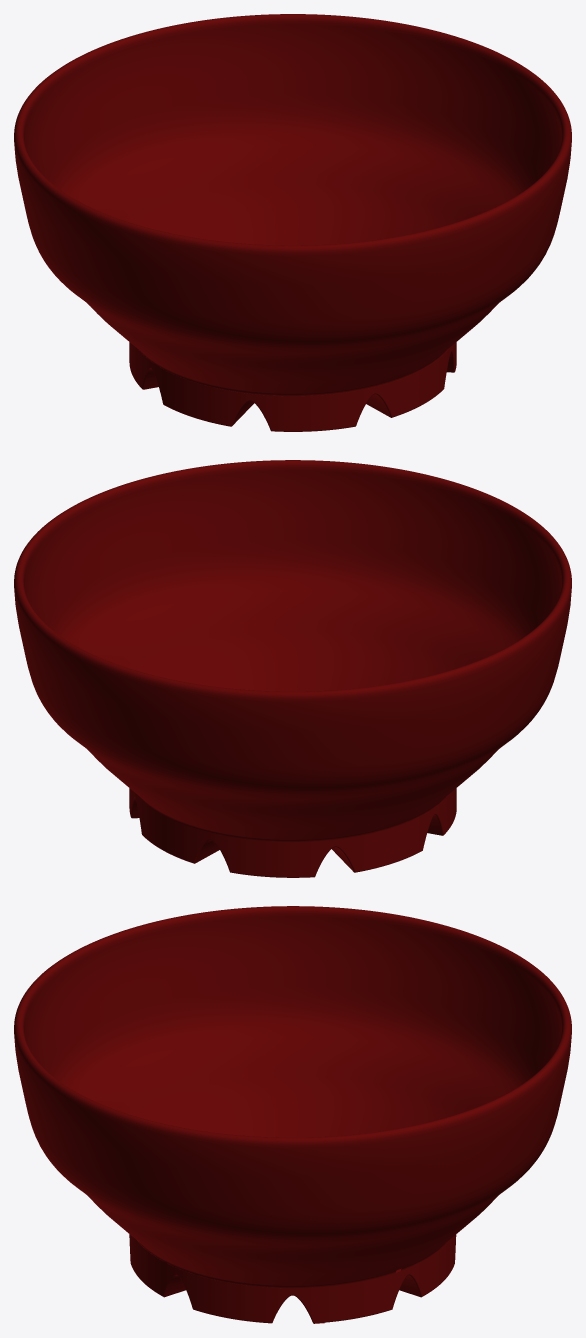
File: mirage.glb
The picture shows the model from 3 angles, top to bottom: view 1: azimuth 30°, elevation 25°; view 2: azimuth 150°, elevation 25°; view 3: azimuth 270°, elevation 25°; orthographic projection.
Size of the model in its own units: 0.11 by 0.0507 by 0.11.
